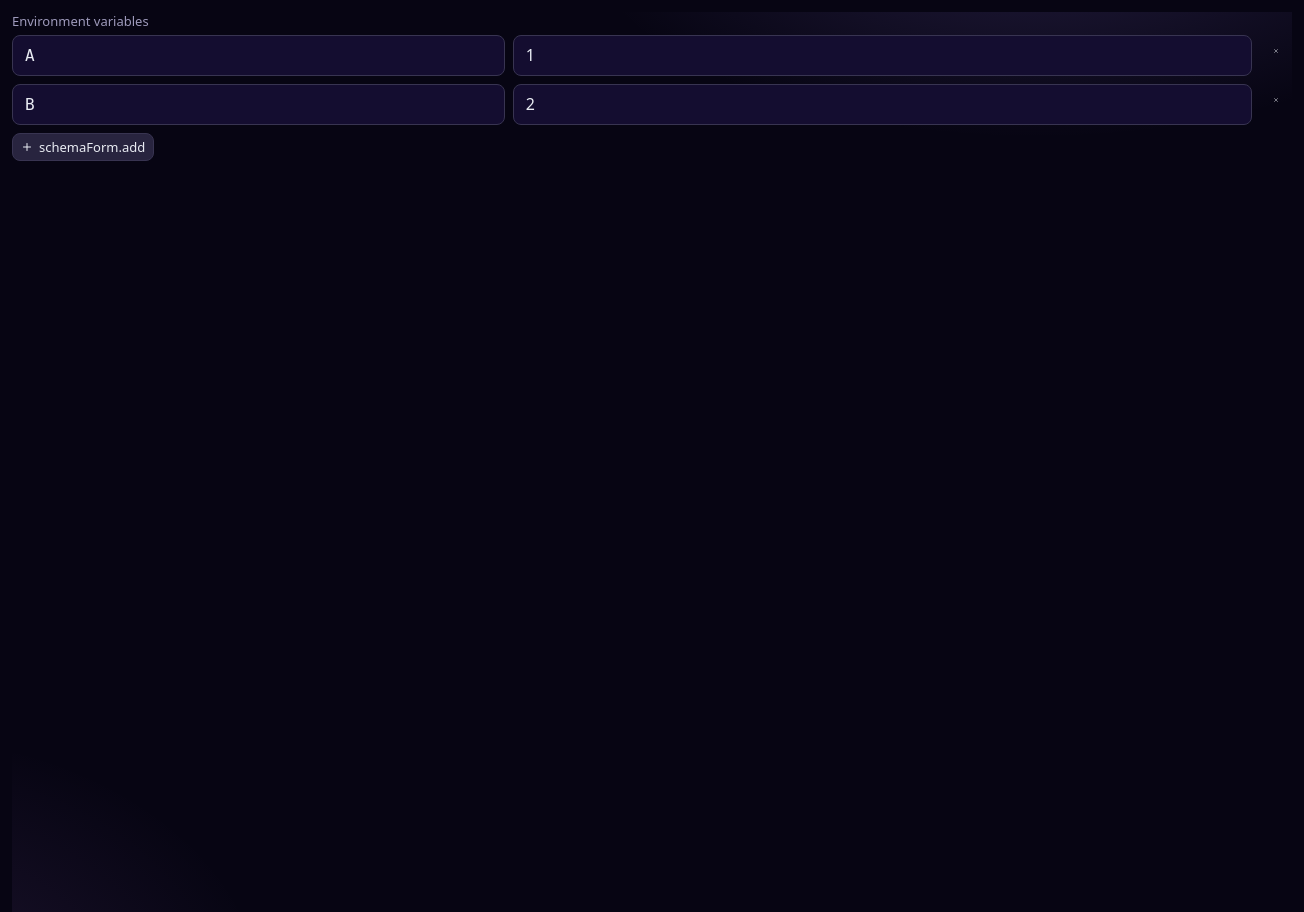
SchemaForm — a name/value map › removes a row when its remove button is used, not when its name is cleared
The width and height of the screenshot is (1304, 912).
Click the 1st button named "schemaForm.remove".
click(1276, 51)  # box [1260, 35, 1292, 67]
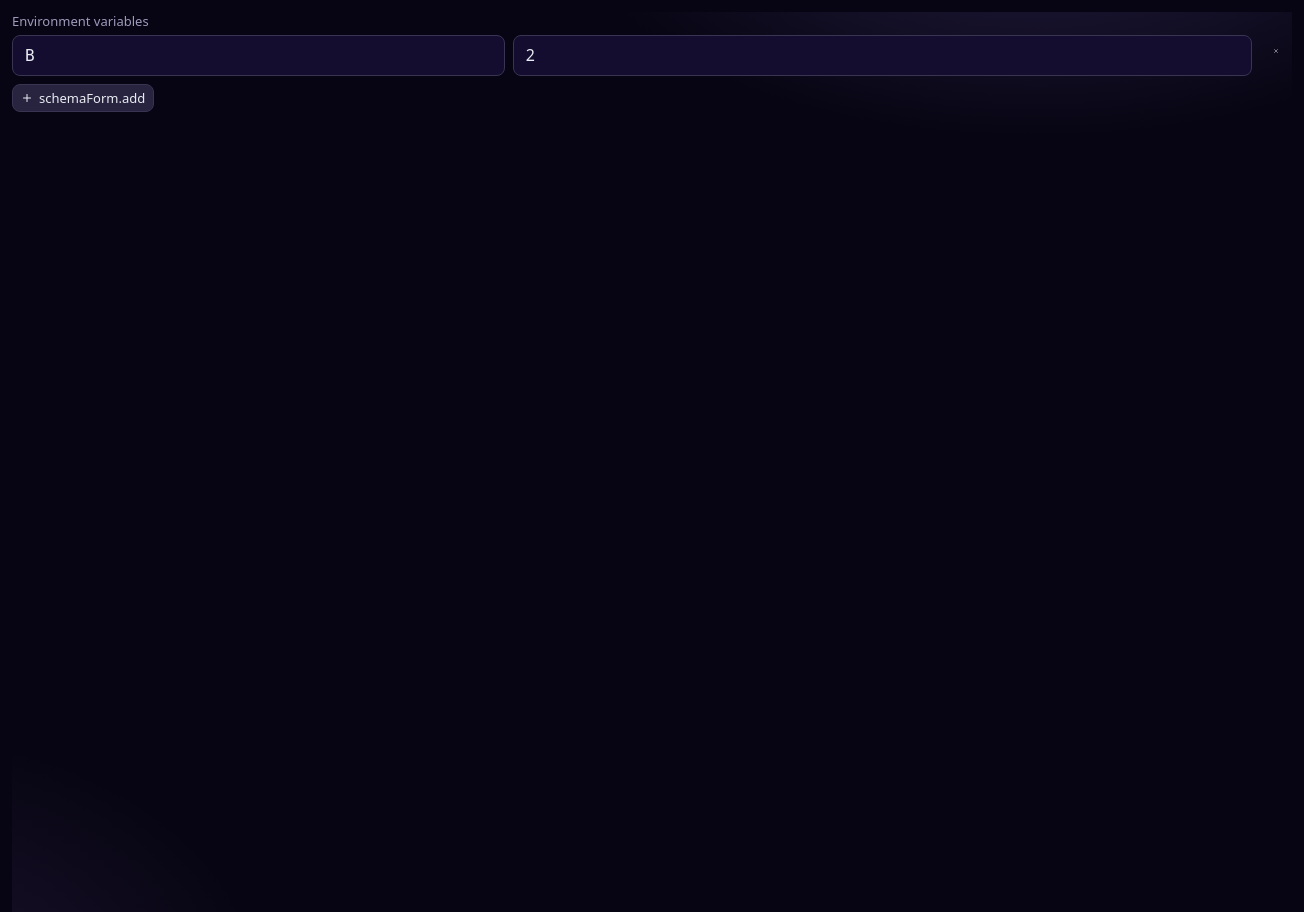
Expected: the number of fields with placeholder "schemaForm.keyPlaceholder" is 1, [12, 35, 505, 76]
